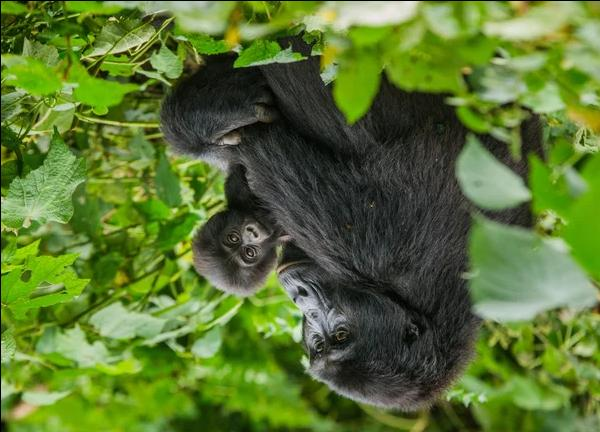goriile_montagne: (150, 34, 484, 428), (185, 154, 291, 308)
